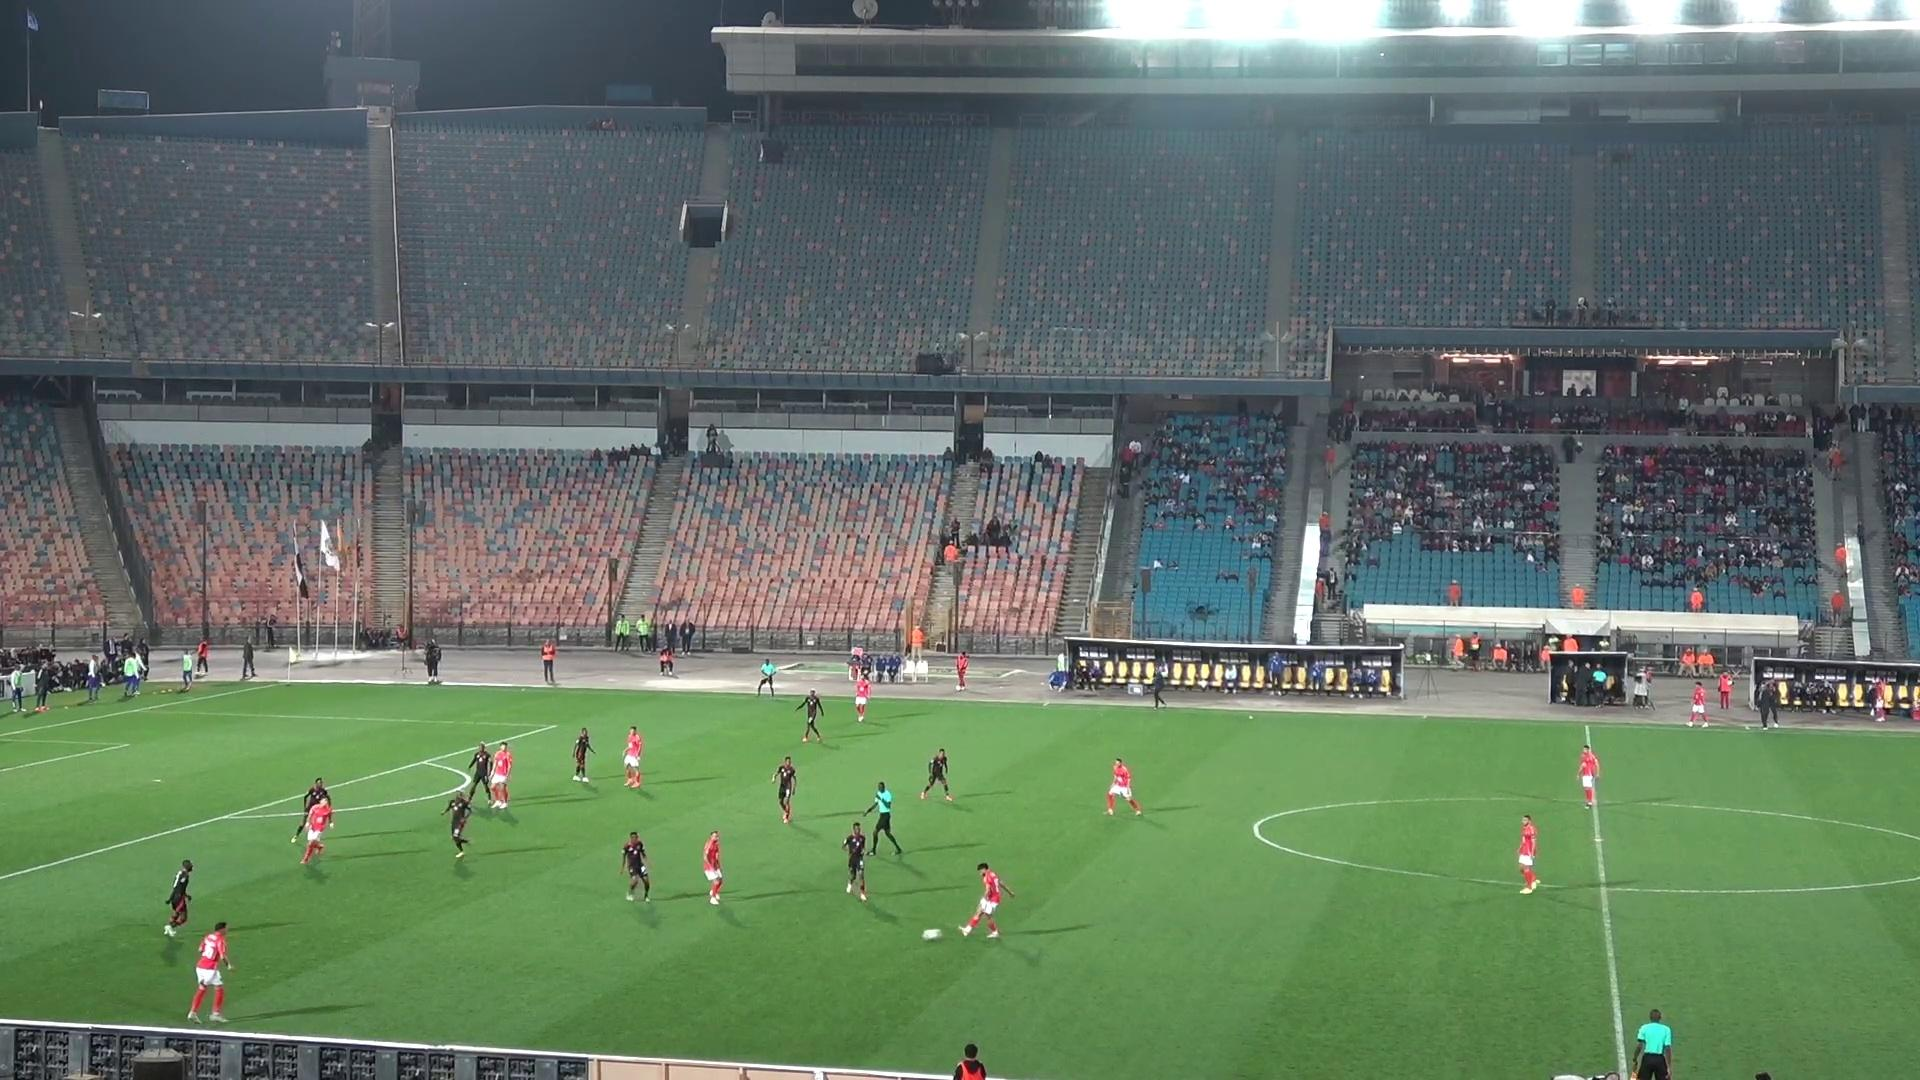Ball: (920, 927, 943, 942)
Refree: (862, 782, 905, 855), (752, 657, 791, 695)
Team1: (187, 922, 231, 1021), (957, 862, 1011, 938), (291, 794, 335, 862), (1105, 758, 1143, 814), (1515, 814, 1539, 894), (489, 741, 513, 810), (1576, 741, 1600, 808), (702, 829, 723, 905), (622, 727, 644, 789), (852, 673, 872, 723)
Team2: (841, 822, 874, 901), (164, 860, 194, 936), (618, 832, 651, 899), (460, 742, 491, 803), (444, 791, 472, 857), (918, 748, 952, 800), (771, 756, 796, 823), (796, 688, 824, 741), (570, 727, 595, 783), (299, 777, 330, 823)
